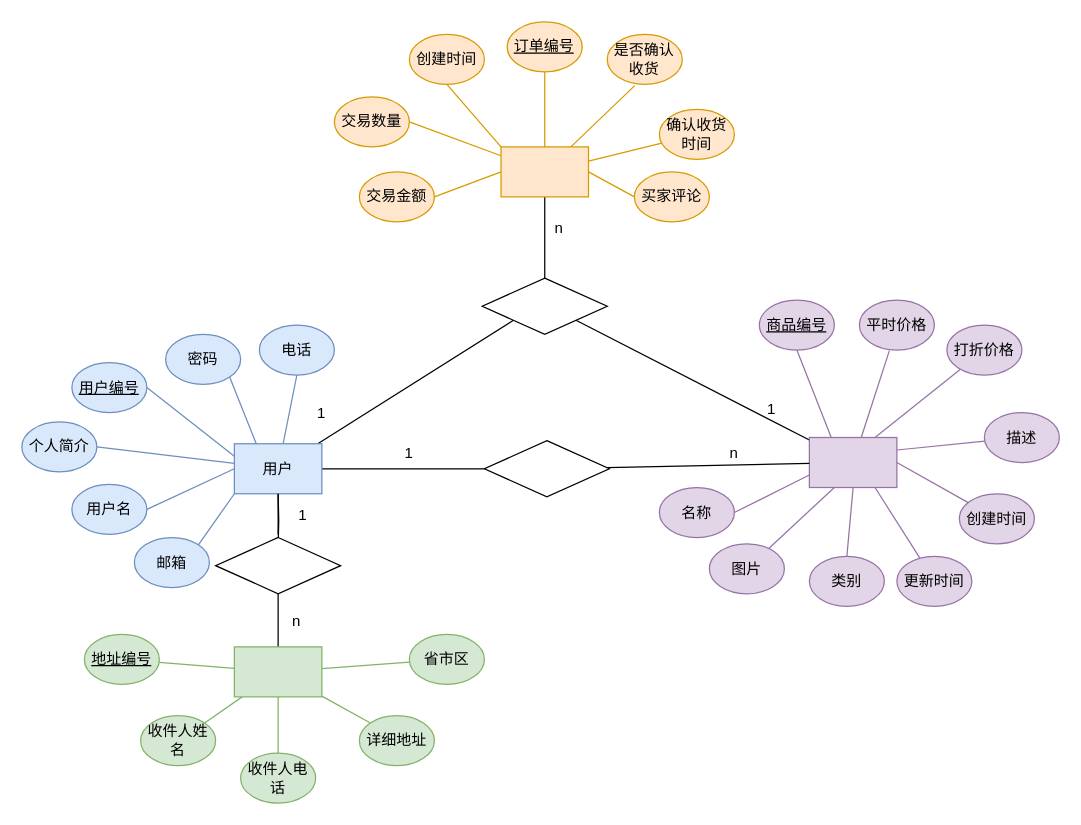
Some shapes in this 1081 by 825 pixel diagram are drawn without their labels. The shapes that lost their labels are listed below. From the top down, each one's centre as x and y in pixels, then its label:
[544,171]: 订单
[544,305]: 创建
[546,468]: 上传
[852,462]: 商品
[277,565]: 拥有
[277,671]: 收件地址
